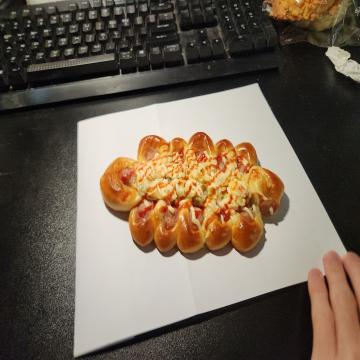pizza_bread: (99, 131, 285, 254)
